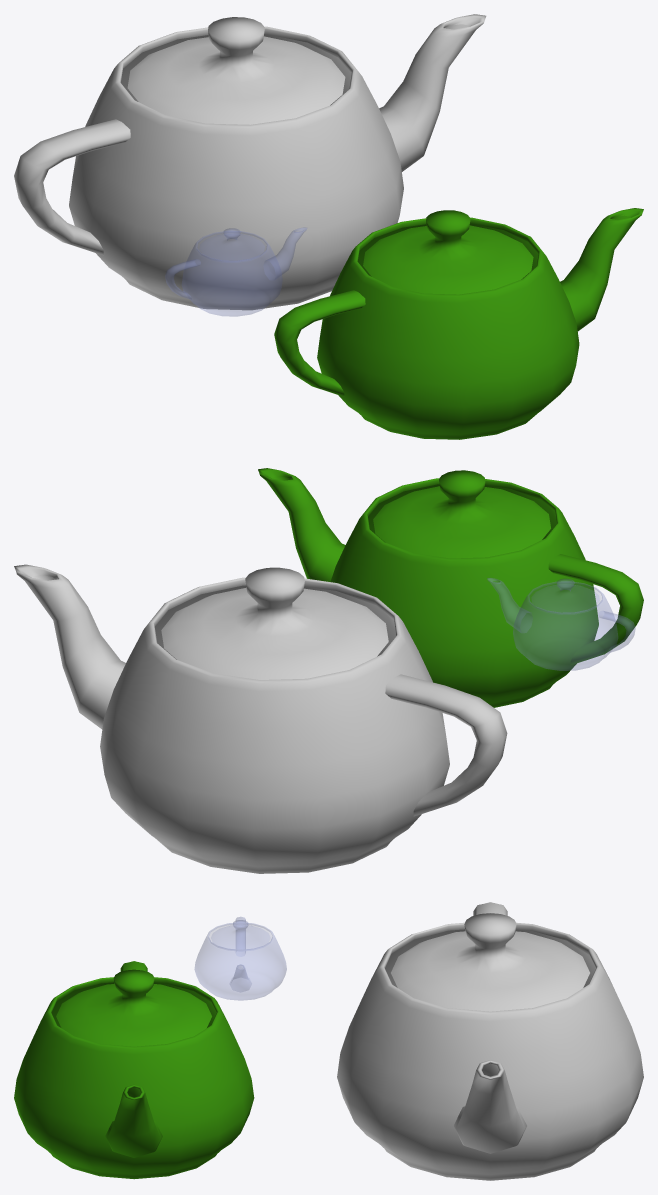
Rendered from teapots.DAE.
3 views of the same model, one above another, from view 1: azimuth 30°, elevation 25°; view 2: azimuth 150°, elevation 25°; view 3: azimuth 270°, elevation 25° (orthographic). The views are drawn at different scales.
Visible parts, largest first — view 1: Teapot01, Teapot03, Teapot02; view 2: Teapot01, Teapot03, Teapot02; view 3: Teapot01, Teapot03, Teapot02.
Boxes of the visible parts, x1,y1,x2,y2 form: Teapot01: [14, 14, 486, 310]; Teapot03: [274, 208, 643, 439]; Teapot02: [165, 227, 306, 316]; Teapot01: [14, 564, 507, 873]; Teapot03: [258, 468, 643, 707]; Teapot02: [487, 578, 635, 670]; Teapot01: [337, 902, 643, 1180]; Teapot03: [14, 961, 254, 1179]; Teapot02: [194, 917, 286, 1000].
Size of the model in its own units: 101 by 129 by 49.32.
